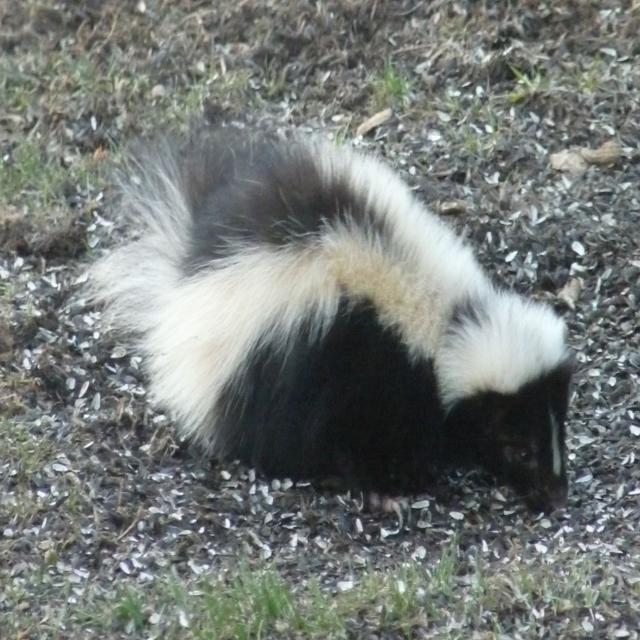Skunk: (69, 69, 604, 518)
